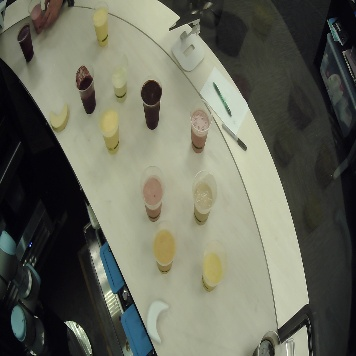full_cup: (198, 238, 230, 299), (149, 216, 181, 277), (138, 165, 170, 226), (189, 167, 221, 228), (185, 99, 217, 160), (136, 76, 168, 137), (94, 101, 127, 157), (70, 60, 97, 119), (104, 48, 133, 100), (13, 21, 42, 64), (88, 1, 111, 47), (251, 328, 284, 356), (27, 1, 47, 34)
puck: (143, 296, 171, 345), (48, 104, 75, 135)
